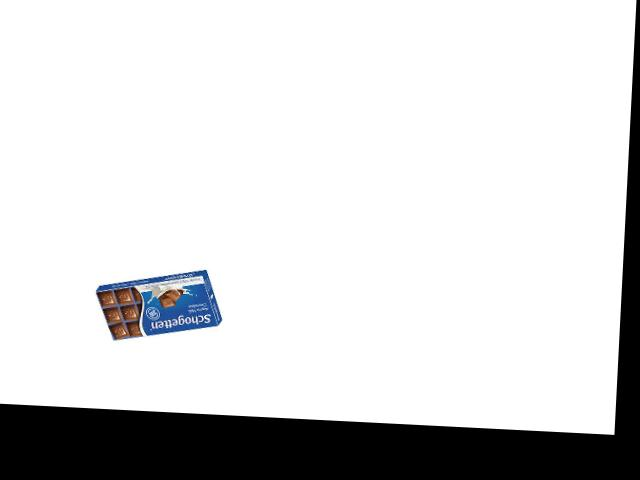chocolate: (91, 274, 226, 346)
